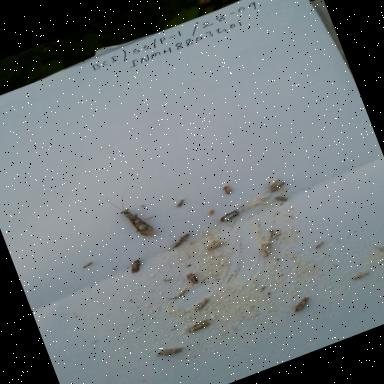pbw: (151, 340, 186, 364), (286, 292, 318, 315), (164, 230, 196, 252), (216, 204, 248, 226), (118, 256, 147, 280), (183, 316, 214, 336), (254, 239, 277, 261), (190, 294, 214, 314), (165, 286, 190, 303), (182, 268, 203, 288), (266, 178, 290, 194), (351, 268, 373, 283), (204, 238, 227, 252), (272, 190, 292, 206), (219, 181, 236, 197), (172, 196, 190, 210), (80, 259, 97, 271), (312, 240, 327, 250), (204, 208, 216, 218)
